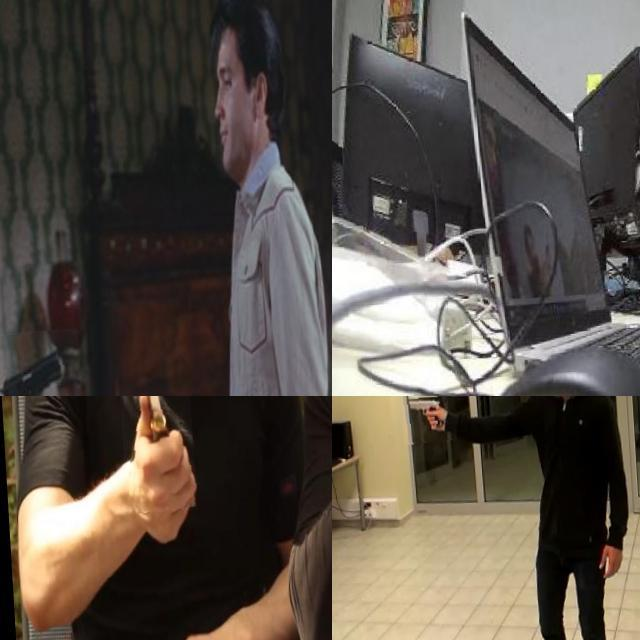-: (111, 396, 191, 515)
gun-knife-thesis - v11 Yolov5 augmented: (0, 333, 81, 396), (396, 396, 452, 446)
